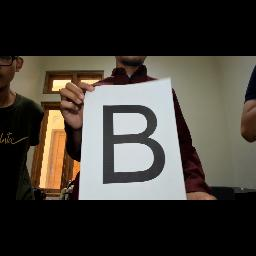b: (100, 102, 166, 186)
